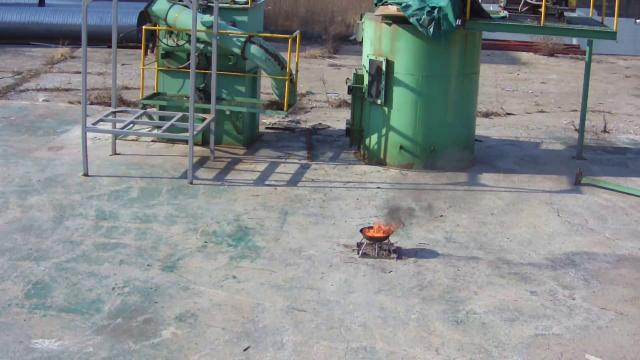fire: (361, 223, 393, 237)
smoke: (377, 154, 488, 233)
